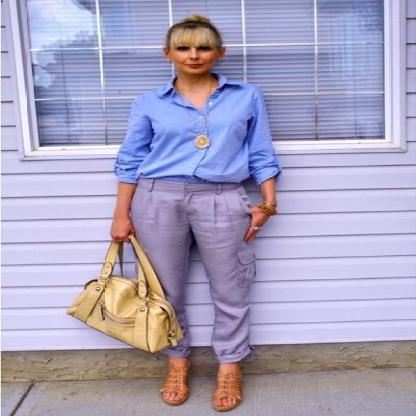bag: (67, 242, 182, 351)
pants: (131, 179, 270, 357)
shirt: (108, 70, 280, 190)
shoe: (161, 358, 241, 411)
